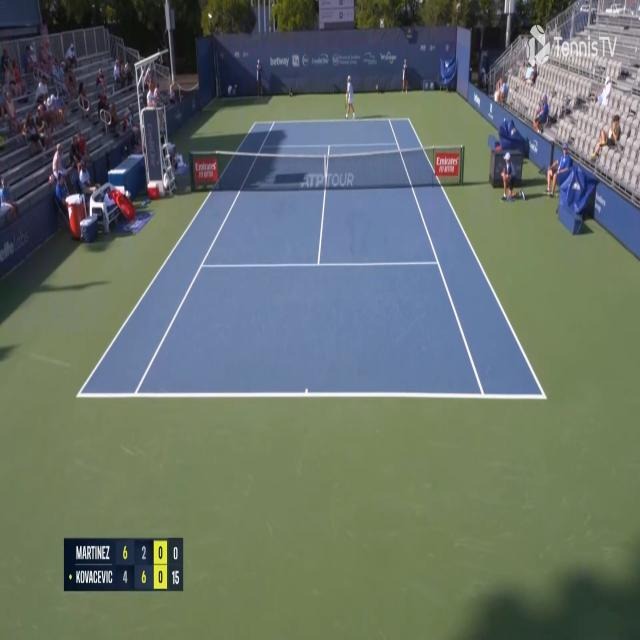tennis-player: (344, 74, 357, 122)
